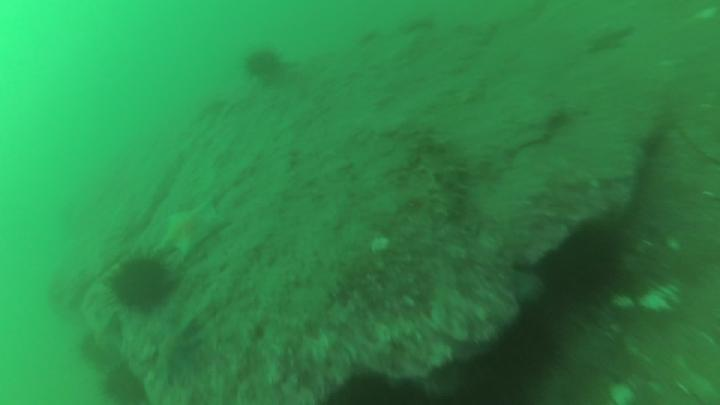echinus: (543, 223, 621, 303), (496, 313, 556, 379), (111, 258, 170, 312), (246, 54, 279, 77)
holothurian: (422, 146, 470, 219)
starfish: (161, 199, 232, 256)
